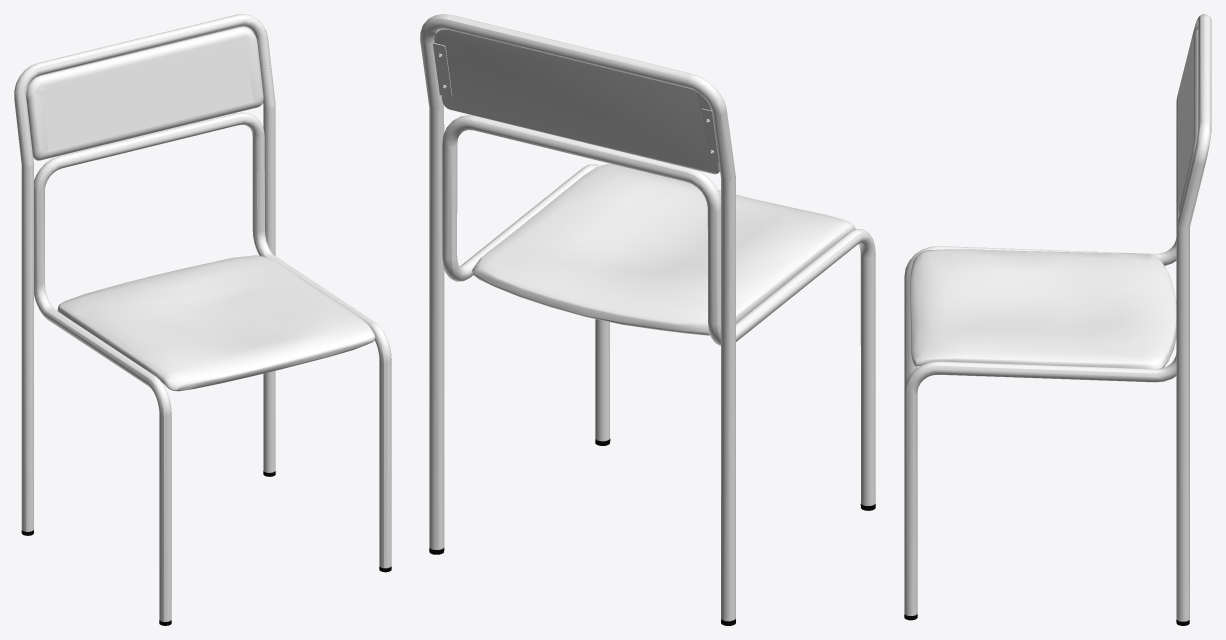
Rendered from bk_med_stool.glb.
3 renders of one model, left to right at view 1: azimuth 30°, elevation 25°; view 2: azimuth 150°, elevation 25°; view 3: azimuth 270°, elevation 25°, orthographic. The views are drawn at different scales.
Parts seen in each view (by area): view 1: Askona Medical Stool; view 2: Askona Medical Stool; view 3: Askona Medical Stool.
Boxes of the visible parts, x1=… form: Askona Medical Stool: x1=14, y1=14, x2=391, y2=625; Askona Medical Stool: x1=420, y1=14, x2=875, y2=625; Askona Medical Stool: x1=904, y1=14, x2=1211, y2=625.
Size of the model in its own units: 0.4683 by 0.8102 by 0.4601.
3 materials, 1 textured.
